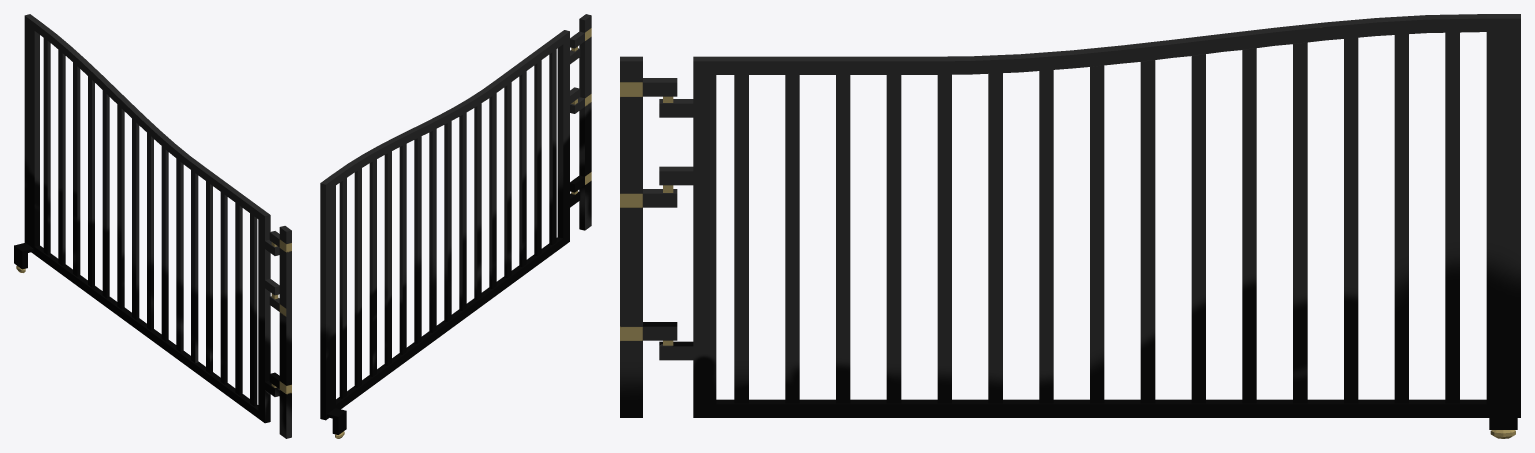
Rendered from P_B_FENCE GATE.fbx.
The picture shows the model from 3 angles, left to right: view 1: azimuth 30°, elevation 25°; view 2: azimuth 150°, elevation 25°; view 3: azimuth 270°, elevation 25°; orthographic projection. The views are drawn at different scales.
Parts seen in each view (by area): view 1: B_Fence_Gate; view 2: B_Fence_Gate; view 3: B_Fence_Gate.
Boxes of the visible parts, left/top/right/bottom form: B_Fence_Gate: left=14, top=14, right=291, bottom=438; B_Fence_Gate: left=320, top=14, right=591, bottom=438; B_Fence_Gate: left=620, top=14, right=1520, bottom=438.
Bounding box in the file's own units: 21.11 × 292 × 551.
